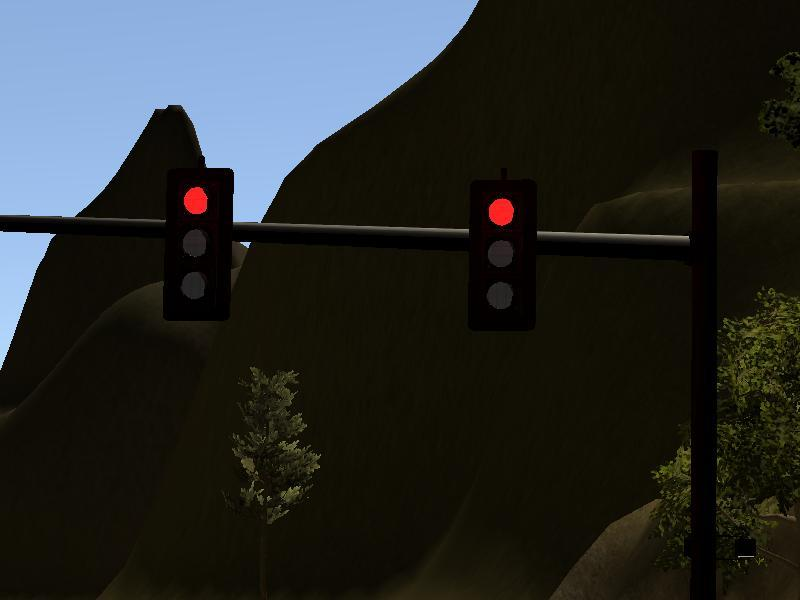Red: (468, 178, 535, 334), (165, 169, 231, 321)
